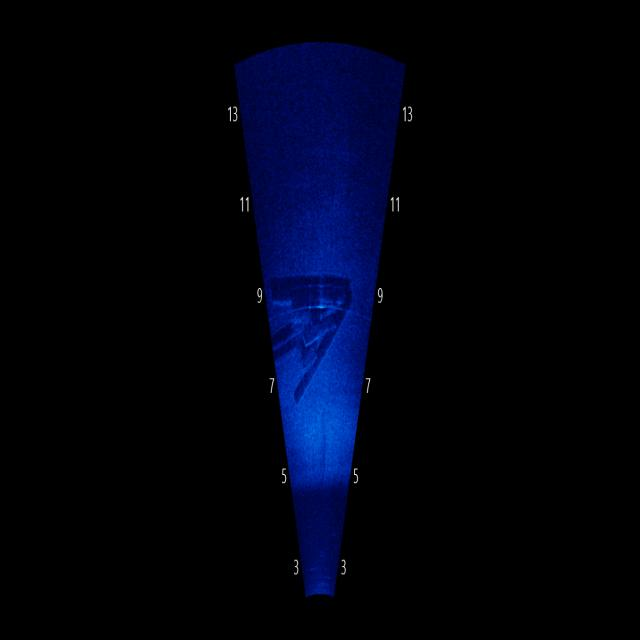triangle: (268, 240, 361, 400)
